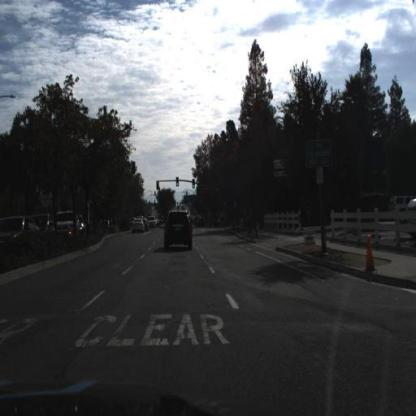car: (161, 206, 196, 254), (1, 211, 43, 247), (48, 210, 83, 241), (51, 205, 80, 239), (34, 209, 58, 242), (23, 217, 53, 240), (131, 215, 147, 235)
trafficLight-Green: (176, 176, 180, 188), (193, 178, 197, 190)
trafficLight-RedLeft: (157, 180, 161, 192)
